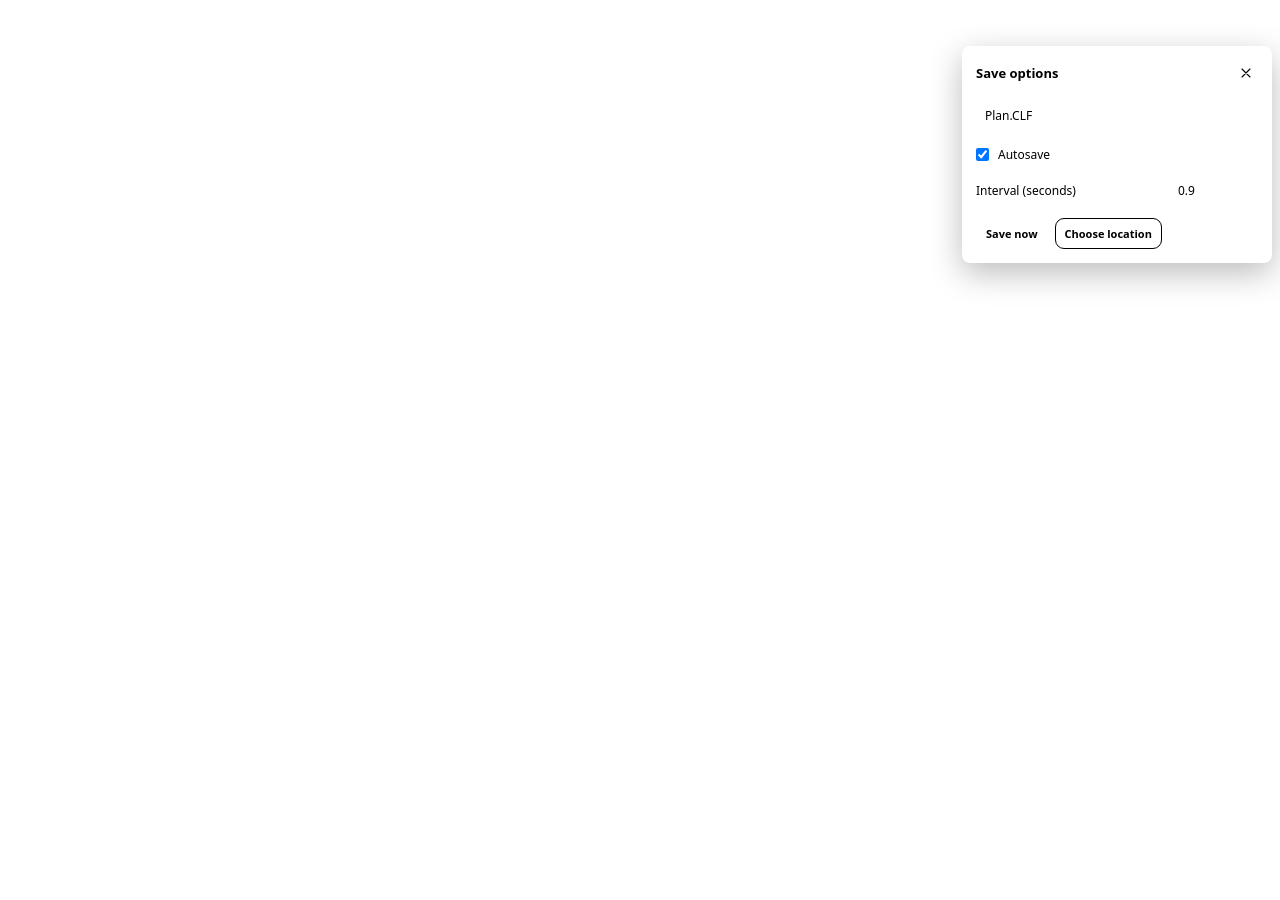
Scenario: compact Save options › rejects invalid intervals without replacing the last valid setting
Replace the text in the number field named "Autosave interval in seconds" with "0" at (1214, 190), box [1170,176,1258,205]
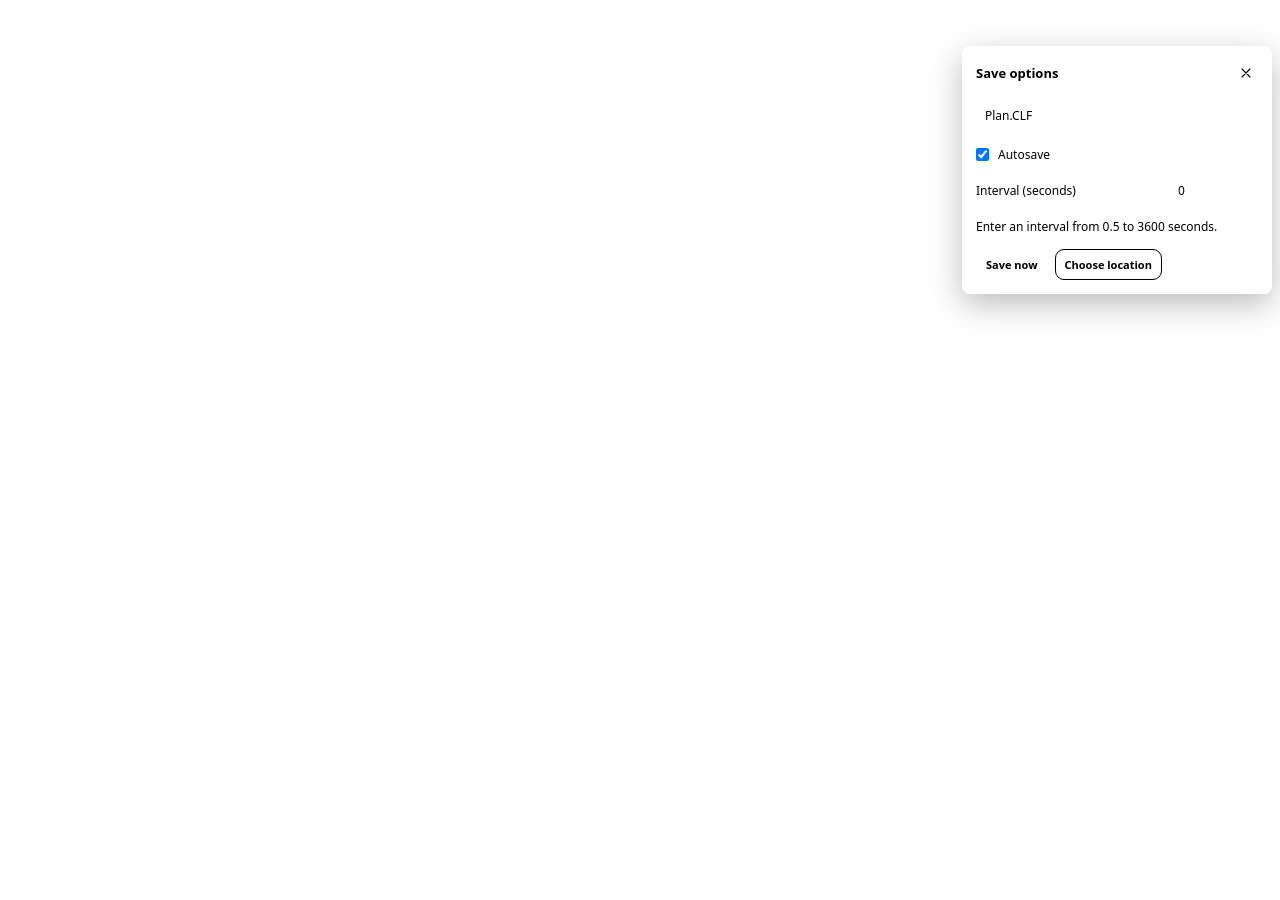
Expected: the message shows "0.5 to 3600", [976,218,1217,235]
Leave the number field named "Autosave interval in seconds", box [1170,176,1258,205]
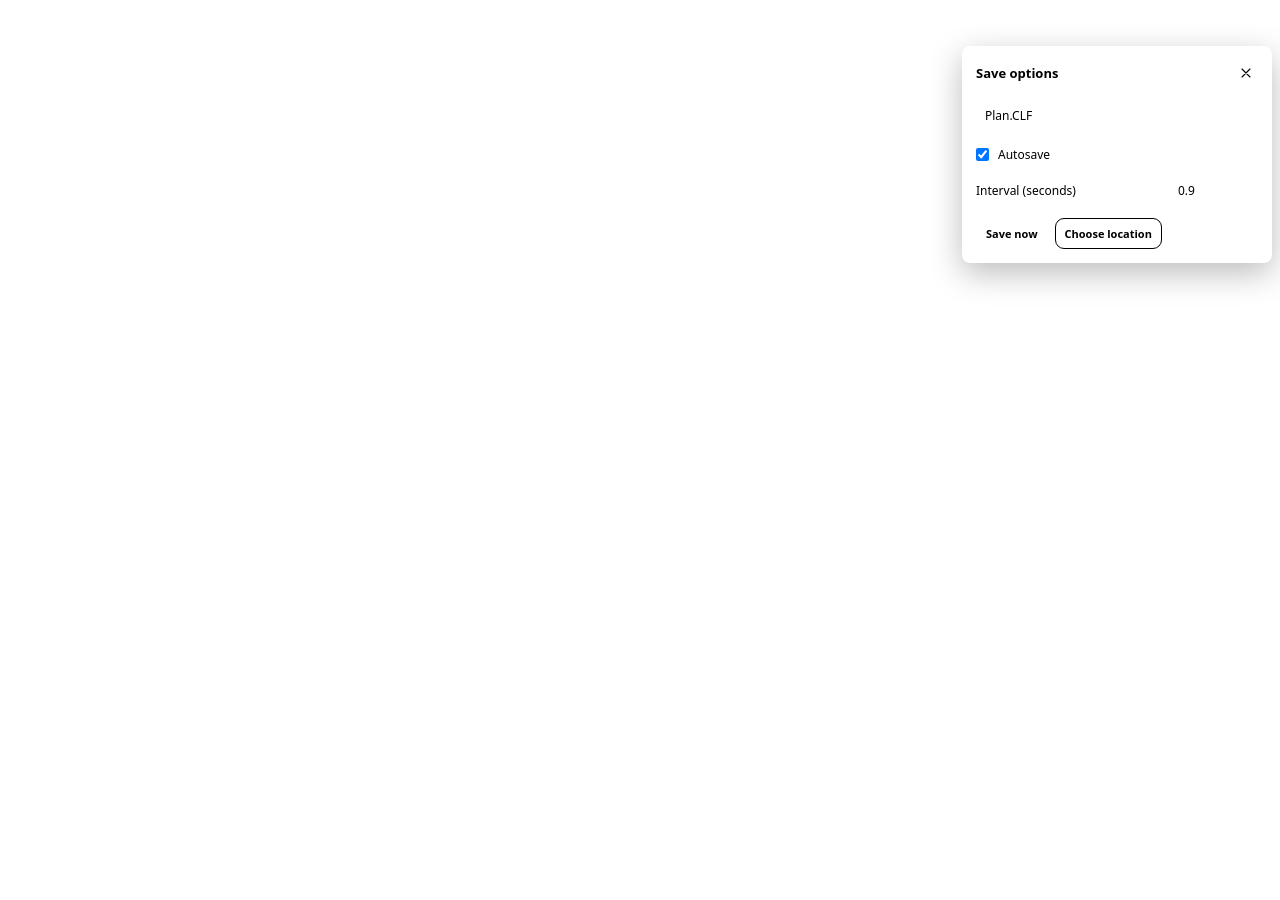
Expected: the number field named "Autosave interval in seconds" holds "0.9", [1170,176,1258,205]
Expected: the message "Enter an interval from 0.5 to 3600 seconds." is gone
